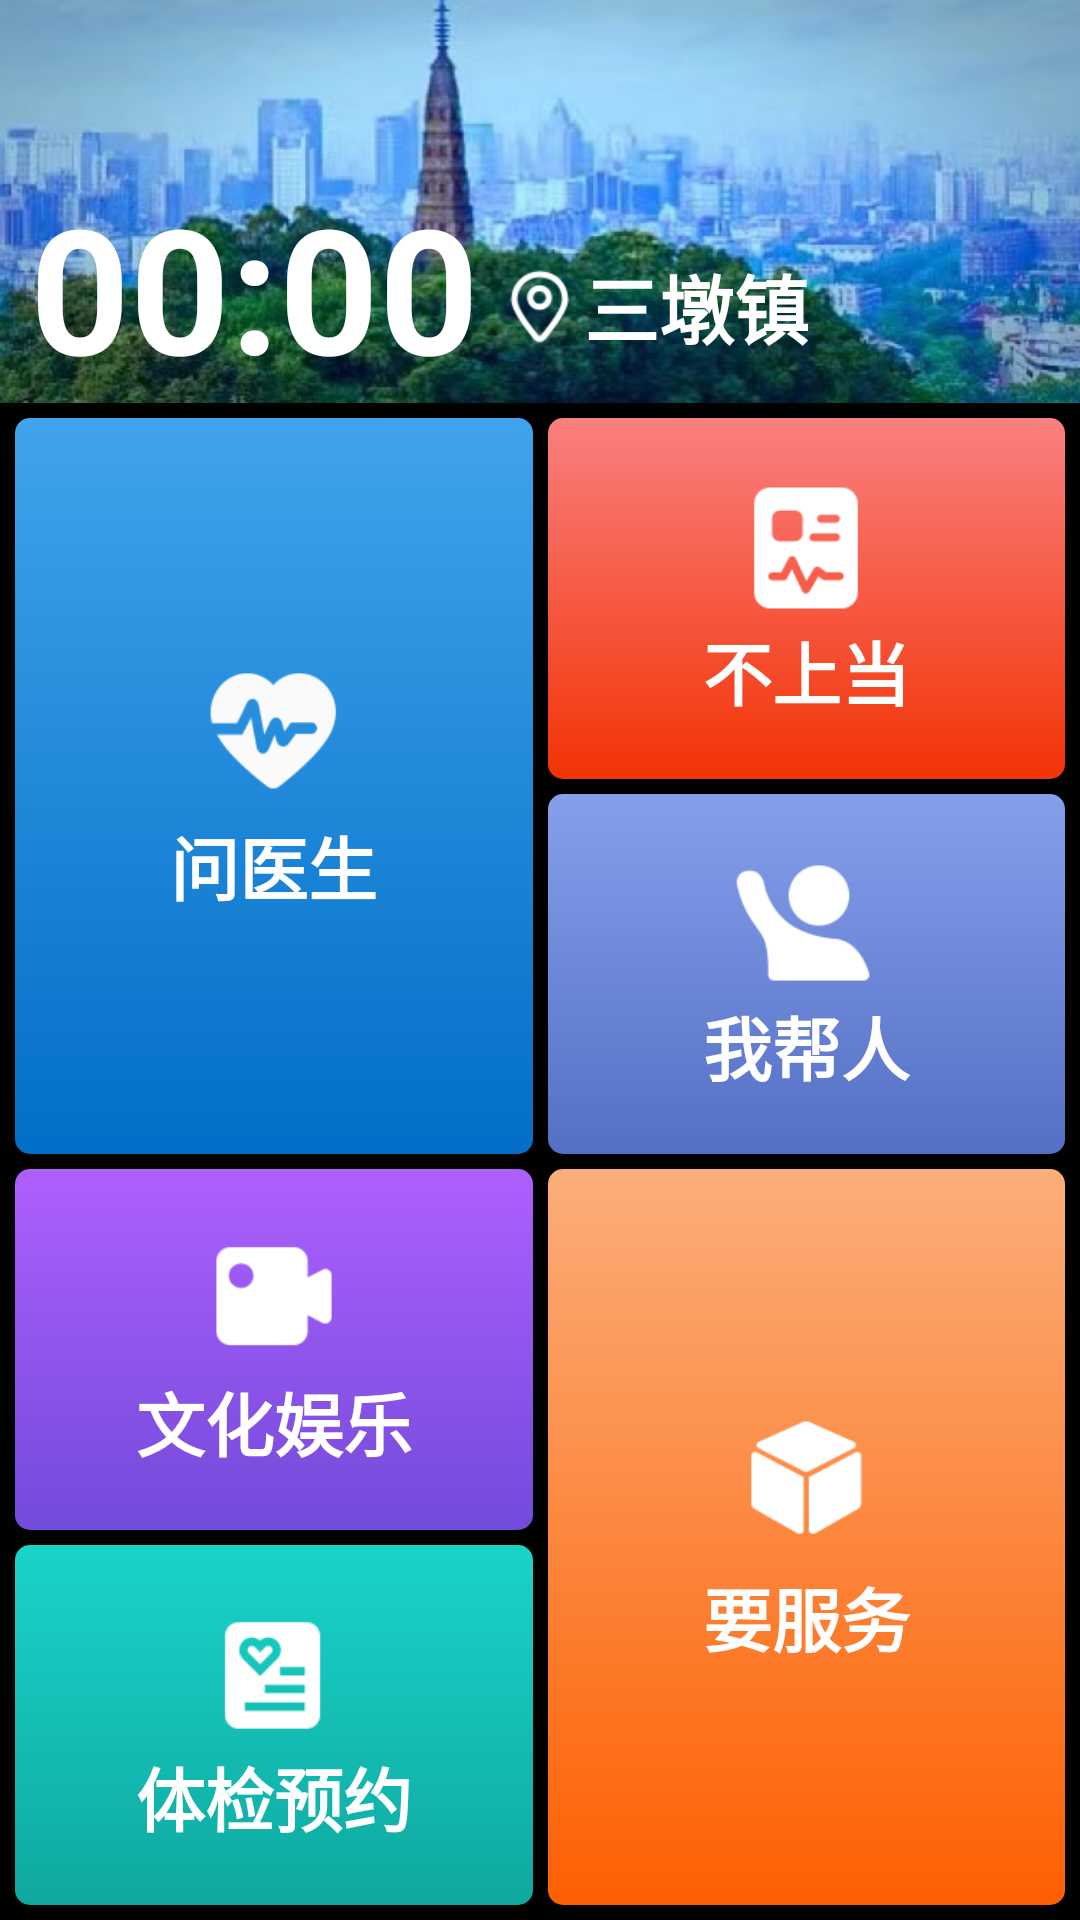

Where to tap for icons on this 1080×1920 app screen, as [x,y]:
home doctor: [273,731]
home entertainment: [274,1296]
home physical examination: [272,1675]
home service: [807,1477]
